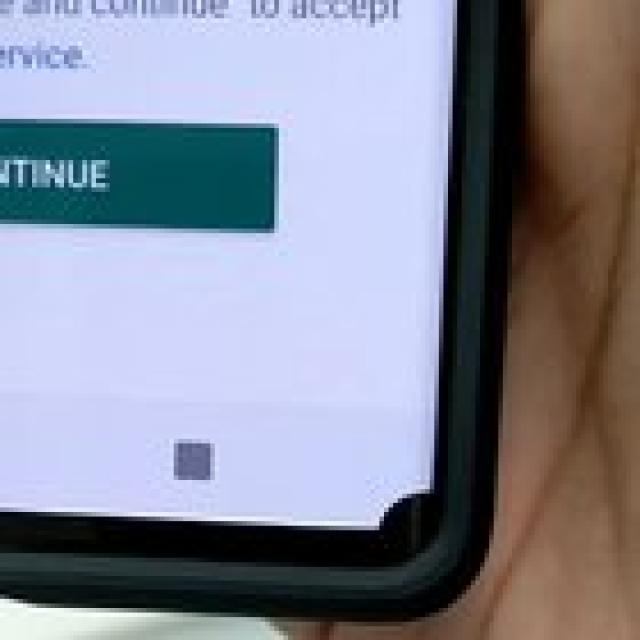dead pixel: (306, 433, 472, 565)
